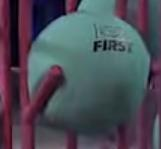algae: (28, 10, 148, 135), (78, 0, 161, 53)
